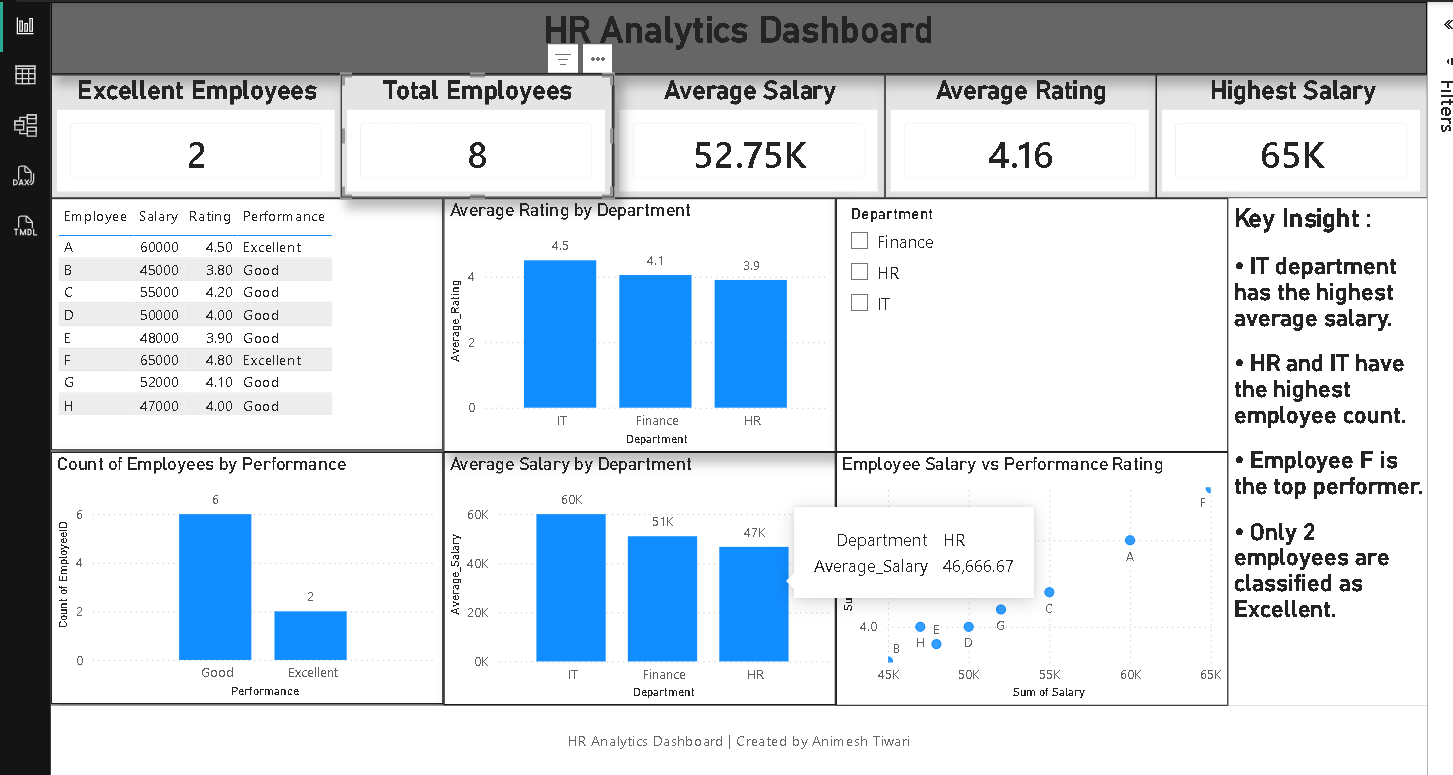

Layout of this report page (visuals, bound fields, positions):
{"tool":"powerbi","page":{"name":"Page 1","canvas":[1280,720],"ordinal":0},"visuals":[{"type":"cardVisual","title":"Excellent Employees","fields":{"Data":["Sheet1.Excellent_Employee"]},"box":[0,67.2,270.3,115.3],"z":0},{"type":"cardVisual","title":"Total Employees","fields":{"Data":["Sheet1.Total_Employee"]},"box":[270.3,67.2,252.5,115.3],"z":1000},{"type":"cardVisual","title":"Average Salary","fields":{"Data":["Sheet1.Average_Salary"]},"box":[522.8,67.2,252.5,115.3],"z":2000},{"type":"cardVisual","title":"Average Rating","fields":{"Data":["Sheet1.Average_Rating"]},"box":[775.3,67.2,252.5,115.3],"z":3000},{"type":"cardVisual","title":"Highest Salary","fields":{"Data":["Sheet1.Highest_salary"]},"box":[1027.8,67.2,252.5,115.3],"z":4000},{"type":"tableEx","fields":{"Values":["Sheet1.Employee","Sheet1.Salary","Sheet1.Rating","Sheet1.Performance"]},"box":[0,182.5,365,234.6],"z":5000},{"type":"clusteredColumnChart","title":"Count of Employees by Performance","fields":{"Category":["Sheet1.Performance"],"Y":["CountNonNull(Sheet1.EmployeeID)"]},"box":[0,418.5,365,234.6],"z":6000},{"type":"clusteredColumnChart","title":"Average Salary by Department","fields":{"Category":["Sheet1.Department"],"Y":["Sheet1.Average_Salary"]},"box":[365,418.5,365,236],"z":7000},{"type":"clusteredColumnChart","title":"Average Rating by Department","fields":{"Category":["Sheet1.Department"],"Y":["Sheet1.Average_Rating"]},"box":[365,182.5,365,236],"z":8000},{"type":"slicer","fields":{"Values":["Sheet1.Department"]},"box":[730,182.5,365,236],"z":8001},{"type":"textbox","box":[1095,182.5,185.2,472],"z":8002},{"type":"textbox","box":[0,654.5,1280.3,65.9],"z":8004},{"type":"scatterChart","title":"Employee Salary vs Performance Rating","fields":{"X":["Sum(Sheet1.Salary)"],"Y":["Sum(Sheet1.Rating)"],"Category":["Sheet1.Employee"]},"box":[730,419,365,236],"z":8005},{"type":"textbox","box":[0,0,1280.3,67.2],"z":8006}]}

Visuals, with their boxes in screenshot pixels (x1, y1, x2, y2):
"Excellent Employees" cardVisual: bbox=(57, 75, 344, 198)
"Total Employees" cardVisual: bbox=(344, 75, 612, 198)
"Average Salary" cardVisual: bbox=(612, 75, 880, 198)
"Average Rating" cardVisual: bbox=(880, 75, 1149, 198)
"Highest Salary" cardVisual: bbox=(1149, 75, 1417, 198)
tableEx - Sheet1.Employee x Sheet1.Salary: bbox=(57, 198, 445, 447)
"Count of Employees by Performance" clusteredColumnChart: bbox=(57, 448, 445, 698)
"Average Salary by Department" clusteredColumnChart: bbox=(445, 448, 832, 699)
"Average Rating by Department" clusteredColumnChart: bbox=(445, 198, 832, 448)
slicer - Sheet1.Department: bbox=(832, 198, 1220, 448)
textbox: bbox=(1220, 198, 1417, 699)
textbox: bbox=(57, 699, 1417, 769)
"Employee Salary vs Performance Rating" scatterChart: bbox=(832, 449, 1220, 700)
textbox: bbox=(57, 4, 1417, 75)
